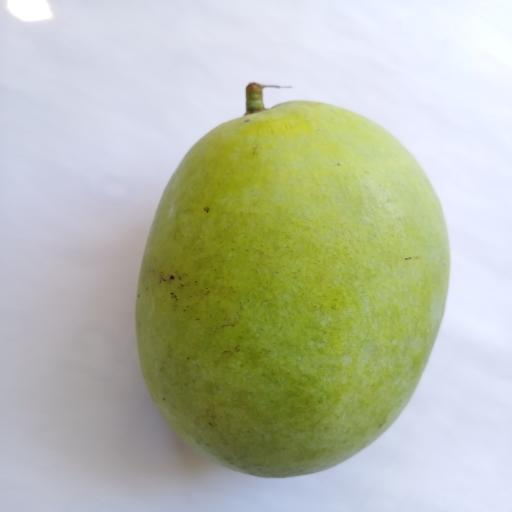mango-unripe: (117, 47, 474, 490)
